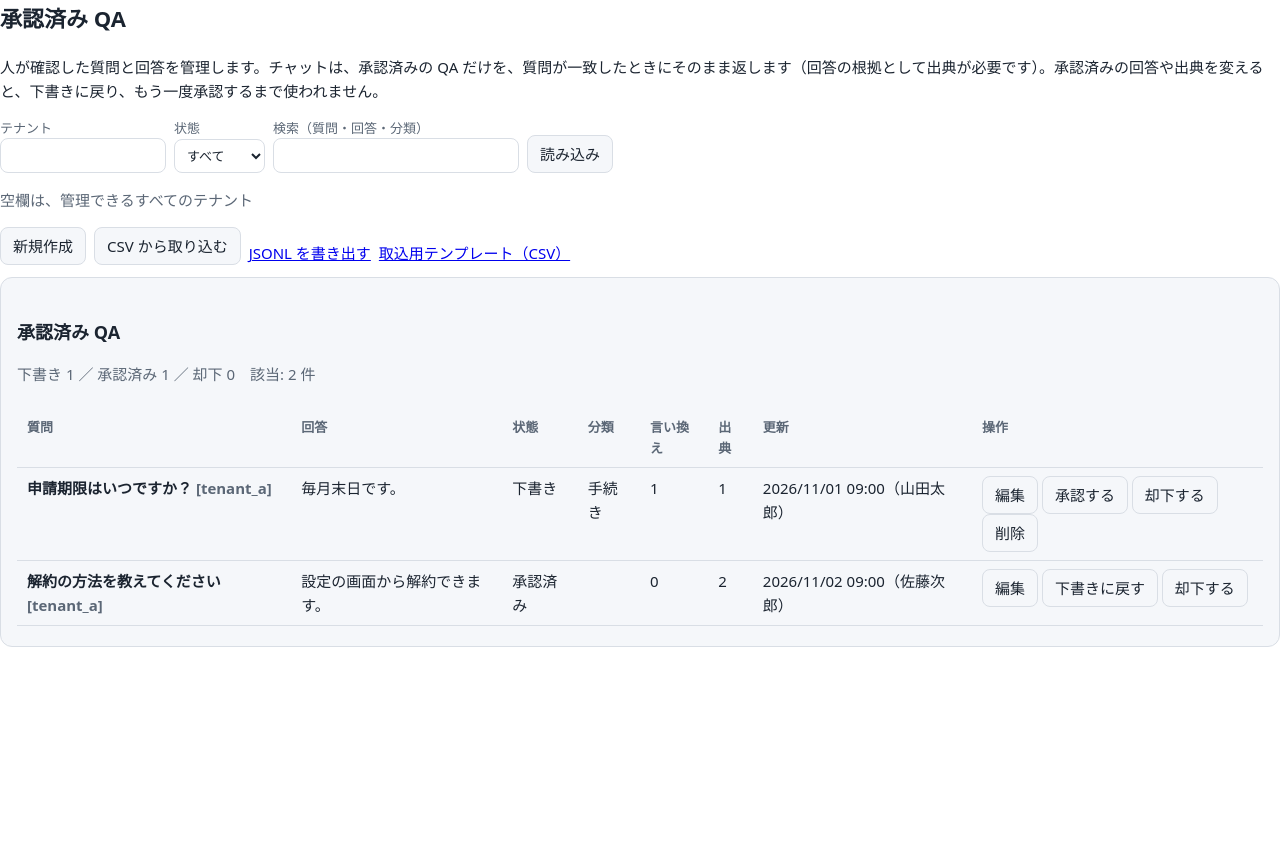
Test: the approved QA page › opens a QA with its citations and history, and says when an edit took it back to draft
This screenshot has width=1280, height=864.
Click the button with aria-label "編集: 申請期限はいつですか" at (1010, 495), box [982,476,1038,514]
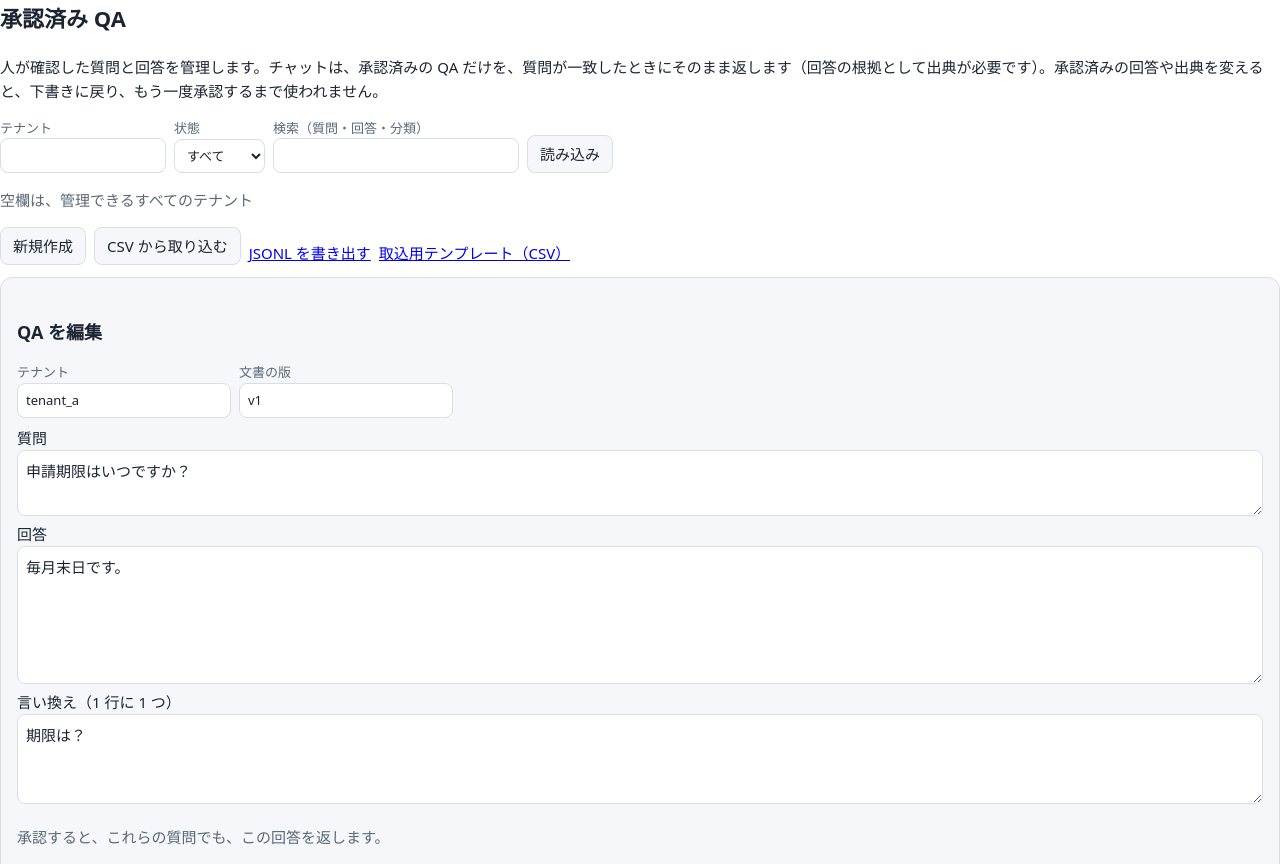
Now the text box labelled "質問" holds "申請期限はいつですか？", box [17,450,1263,516]
Now the text box labelled "言い換え（1 行に 1 つ）" holds "期限は？", box [17,714,1263,804]
Now the field labelled "テナント" below "文書の版" is disabled, box [17,383,231,418]
Replace the text in the text box labelled "回答" with "毎月25日です。" at (640, 615), box [17,546,1263,684]
(page scrolled)
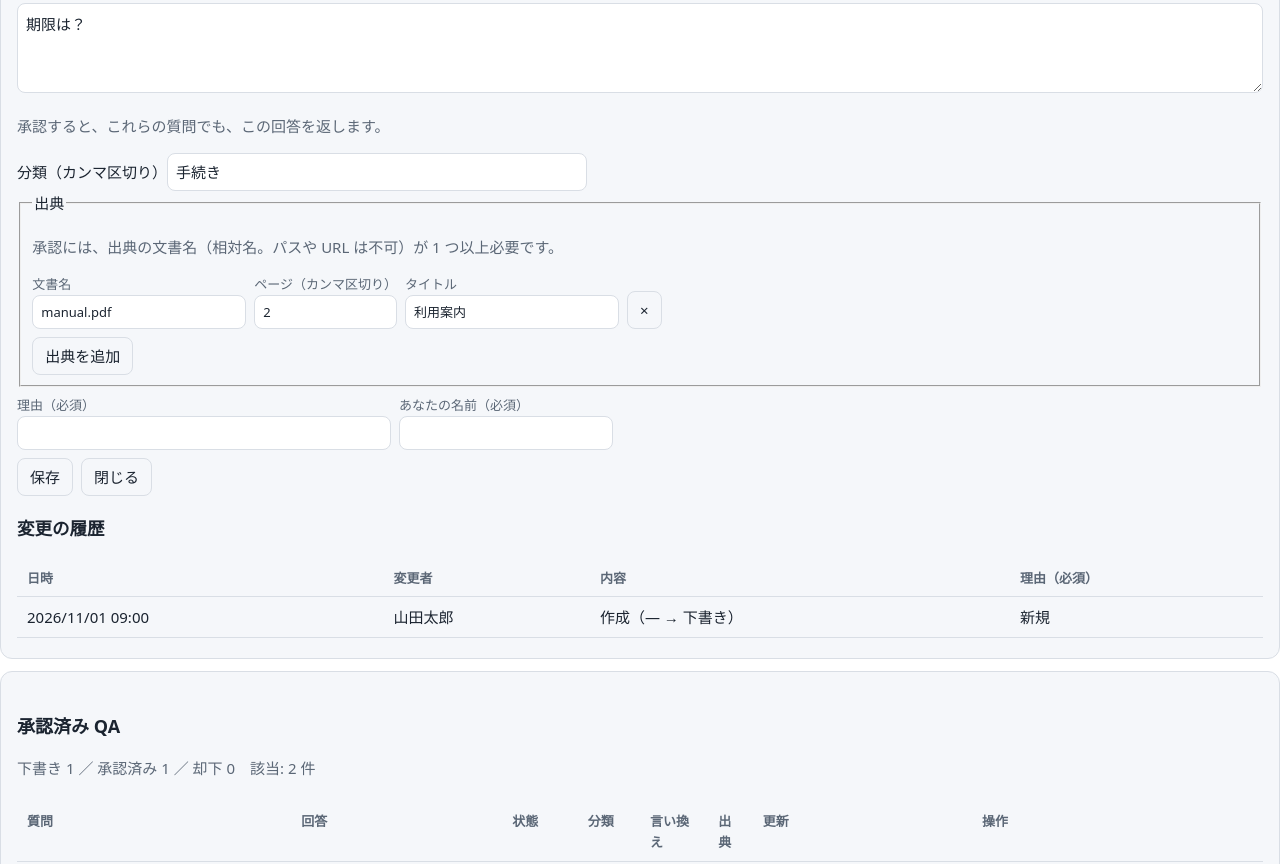
Type "期限が変わった" into the field labelled "理由（必須）" at (204, 433), box [17,416,391,450]
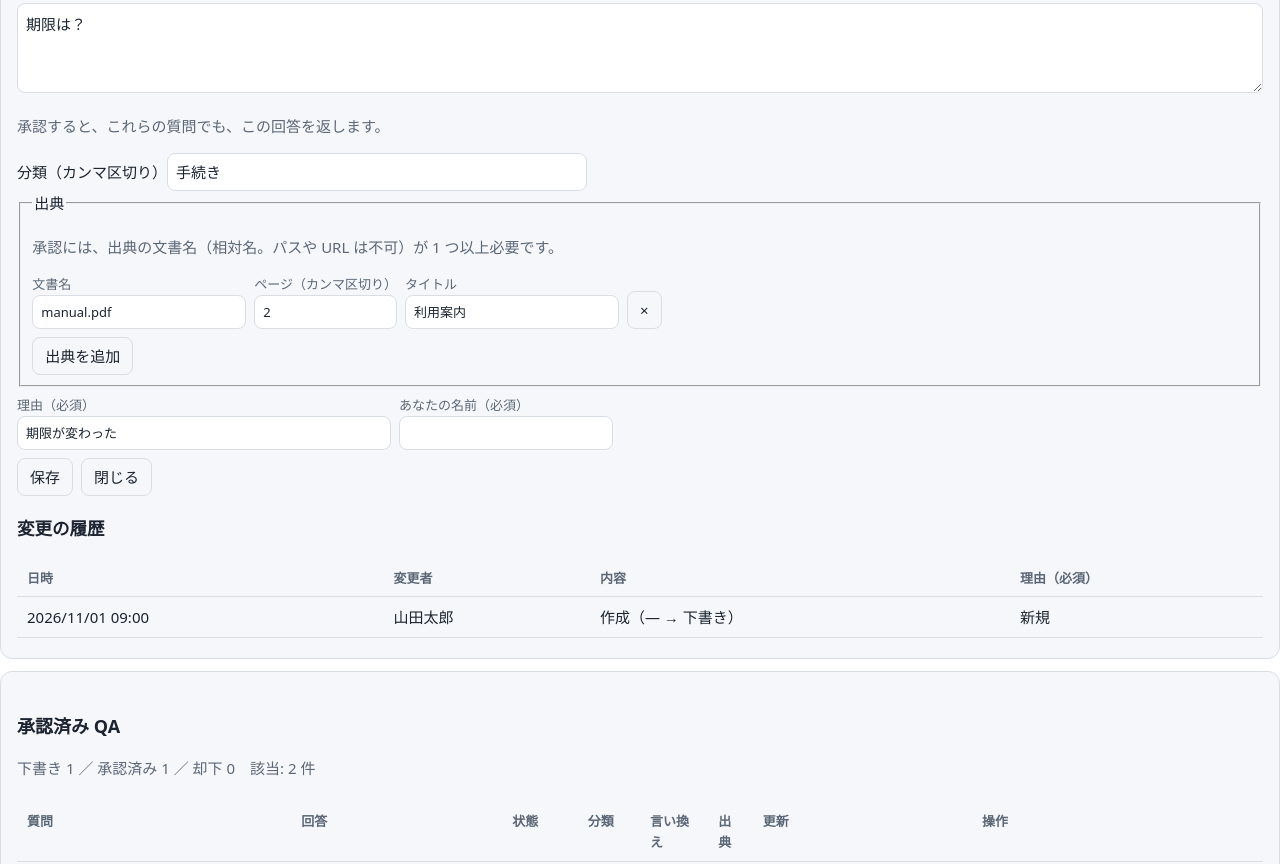
Type "山田太郎" into the field labelled "あなたの名前（必須）" at (506, 433), box [399,416,613,450]
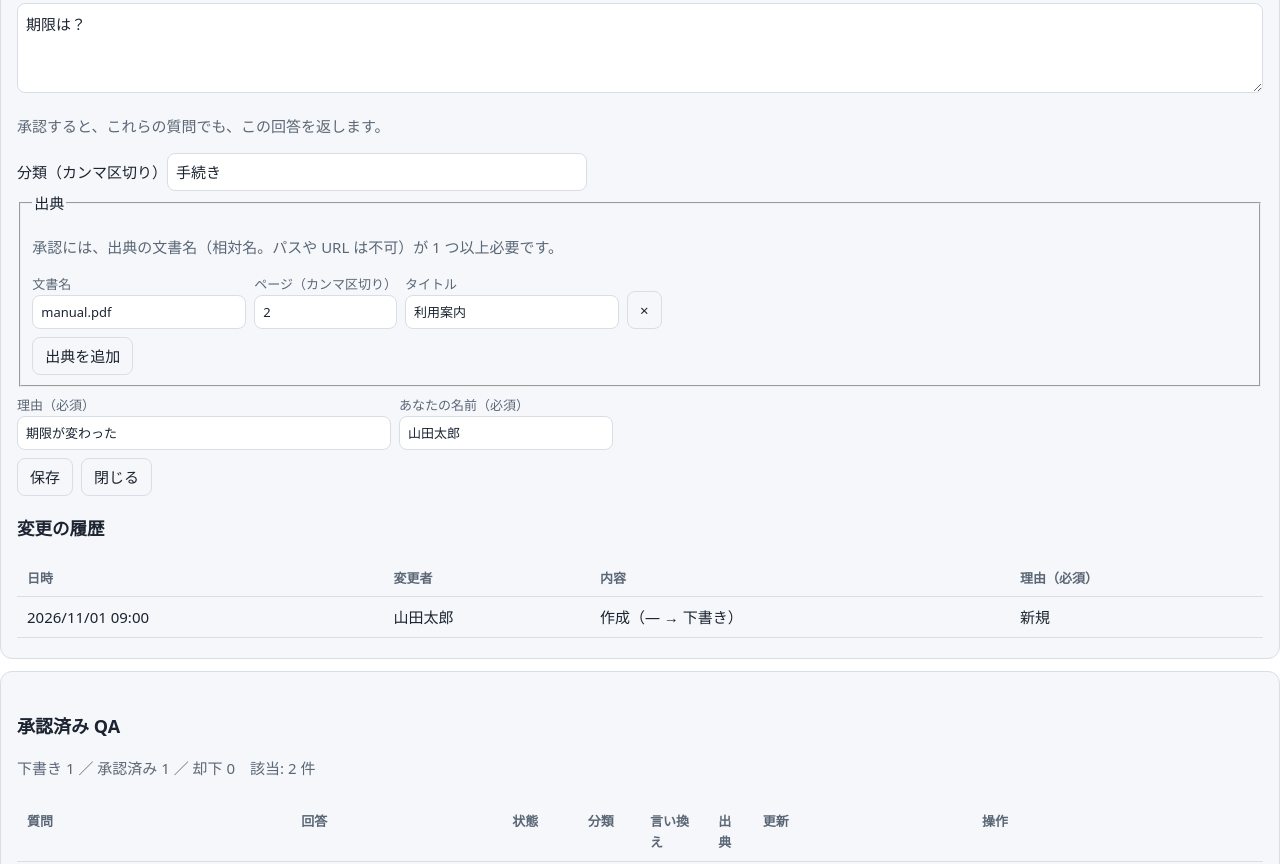
Click the button "保存" at (45, 477), box [17,458,73,496]
(page scrolled)
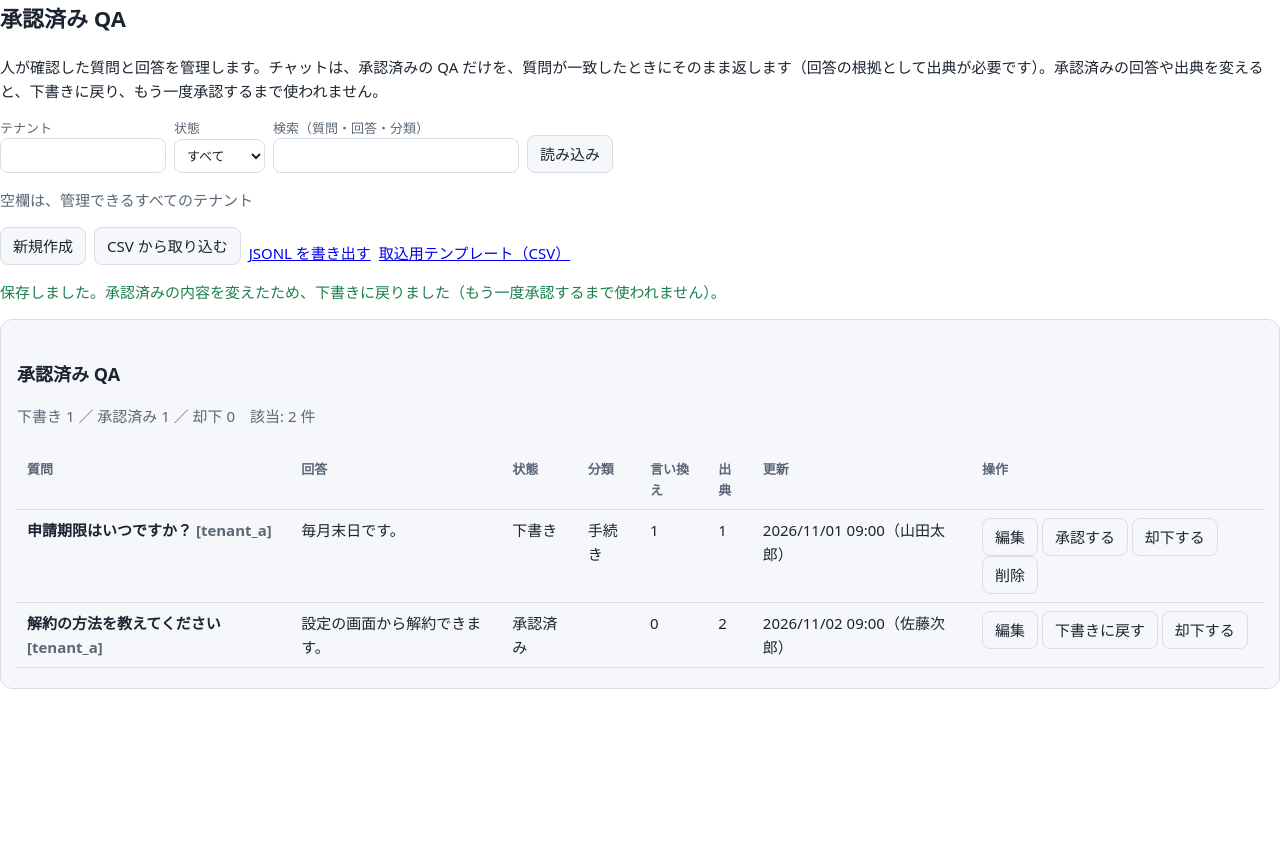
Now the text "保存しました。承認済みの内容を変えたため、下書きに戻りました（もう一度承認するまで使われません）。" is shown, box [0,282,726,302]
